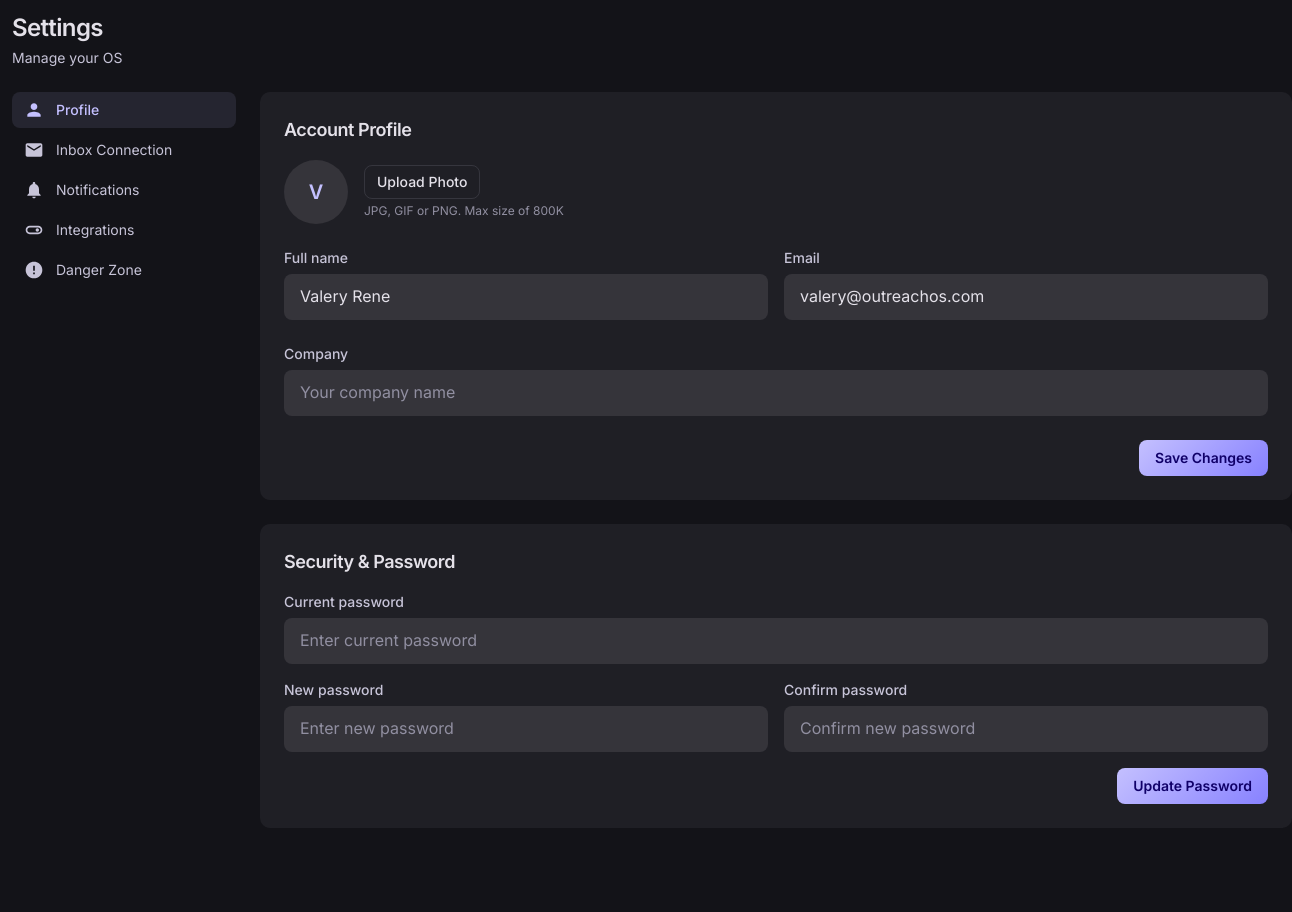
SettingsPage › switches to notifications tab showing toggle rows
This screenshot has width=1292, height=912.
What coordinates should you click on to do the following:
click the button "Notifications"
I would click on:
 (124, 190)
Its box is [12, 172, 236, 208].
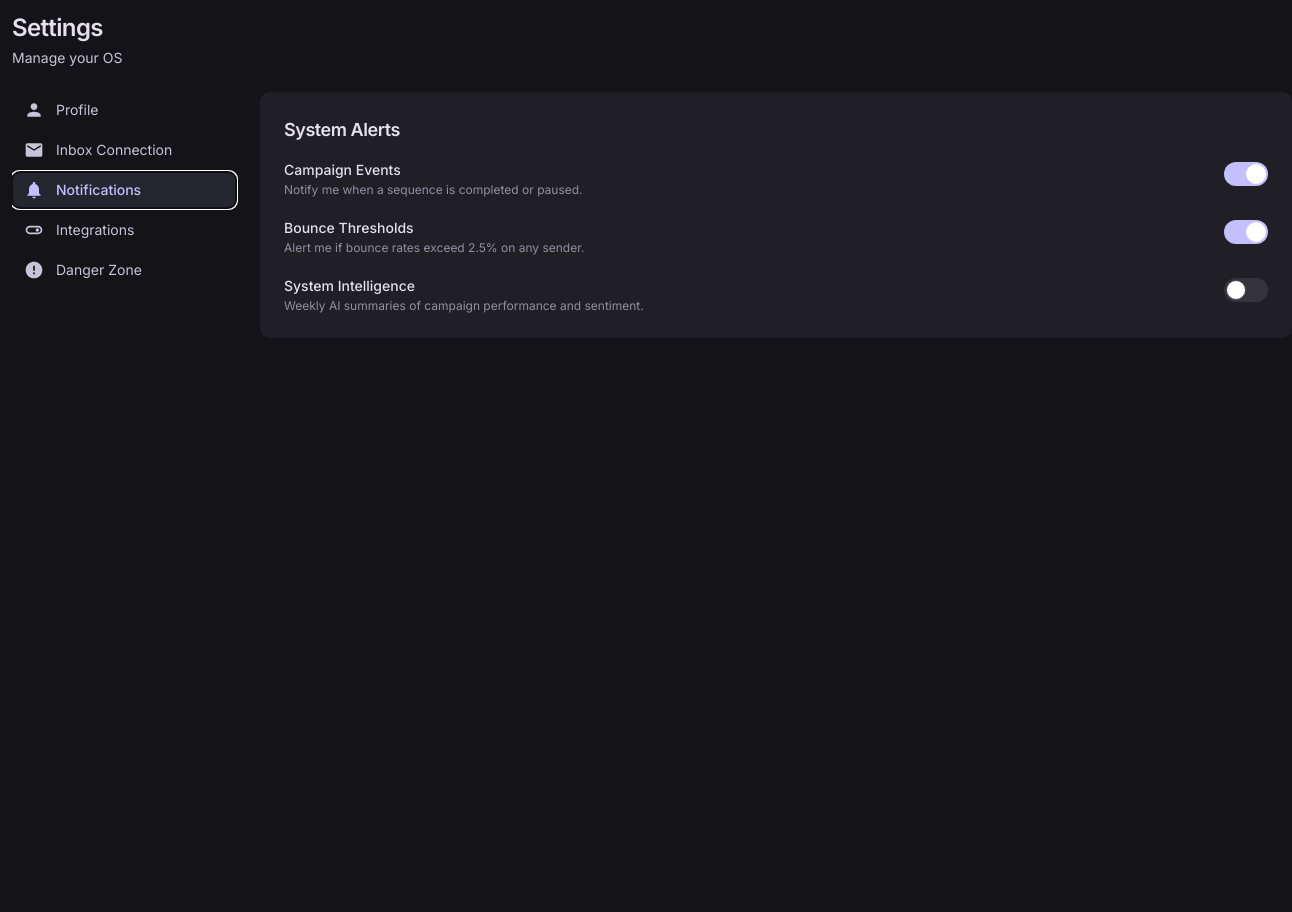
Expected: the text "Campaign Events" is shown, [284, 161, 401, 178]
Expected: the text "Bounce Thresholds" is shown, [284, 219, 414, 236]
Expected: the text "System Intelligence" is shown, [284, 277, 415, 294]
